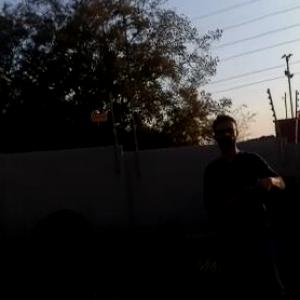follow: (199, 107, 296, 299)
